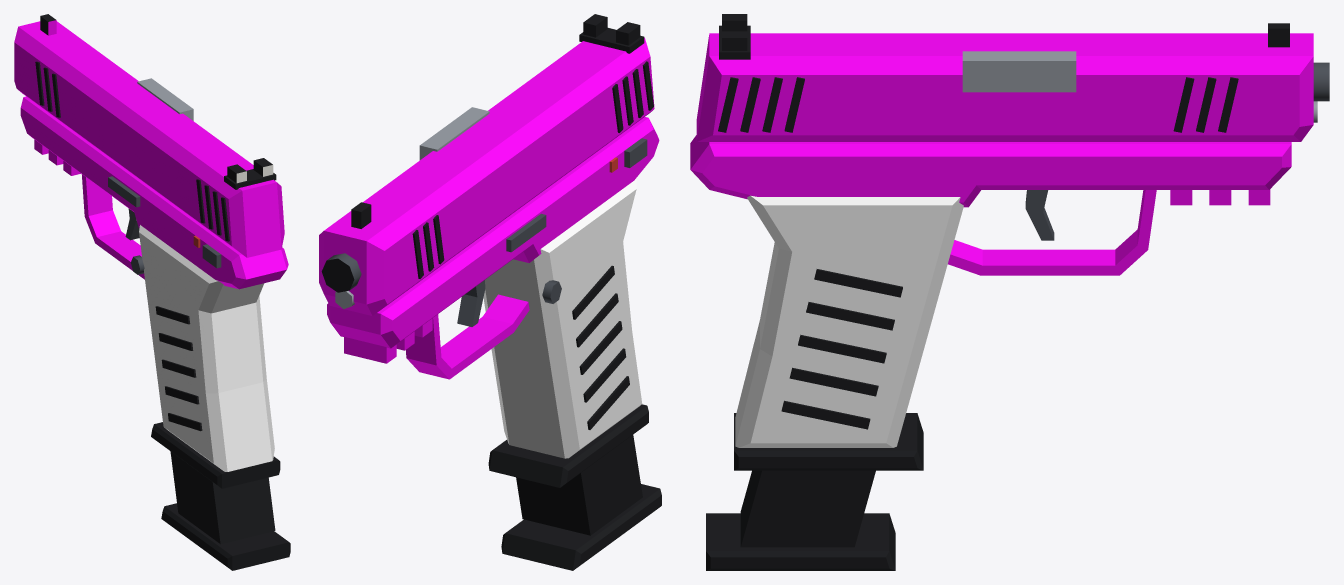
Rendered from pistol.glb.
3 renders of one model, left to right at view 1: azimuth 30°, elevation 25°; view 2: azimuth 150°, elevation 25°; view 3: azimuth 270°, elevation 25°, orthographic. The views are drawn at different scales.
Visible parts, largest first — view 1: pistol__body, pistol__slide, pistol__mag_ext, pistol__mag; view 2: pistol__body, pistol__slide, pistol__mag_ext, pistol__mag; view 3: pistol__body, pistol__slide, pistol__mag_ext, pistol__mag.
Boxes of the visible parts, box(x1,y1,x2,y2) form: pistol__body: box(20, 96, 288, 471); pistol__slide: box(14, 14, 284, 257); pistol__mag_ext: box(161, 451, 290, 570); pistol__mag: box(151, 422, 280, 488); pistol__body: box(321, 117, 659, 458); pistol__slide: box(319, 14, 654, 315); pistol__mag_ext: box(501, 435, 661, 570); pistol__mag: box(488, 404, 648, 487); pistol__body: box(690, 62, 1329, 447); pistol__slide: box(696, 14, 1313, 141); pistol__mag_ext: box(706, 470, 895, 570); pistol__mag: box(734, 413, 923, 470).
Size of the model in its own units: 0.033 by 0.1835 by 0.202.
Materials: 1 (1 with a texture image).
